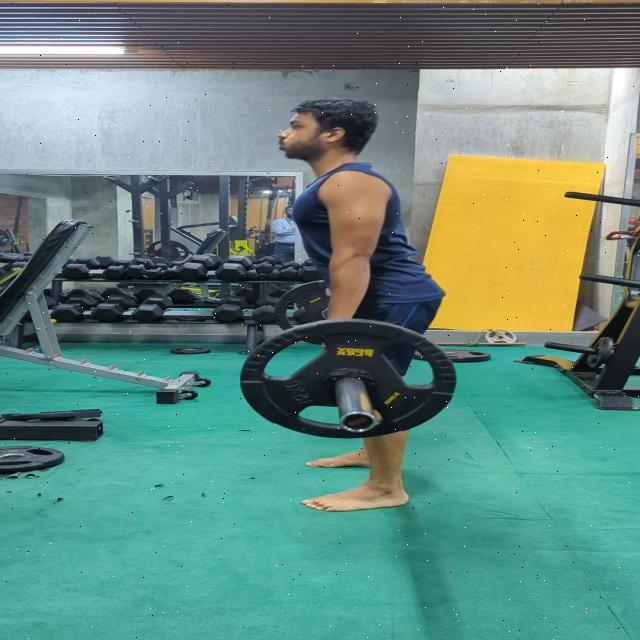Normal_Deadlifts: (268, 96, 452, 514)
